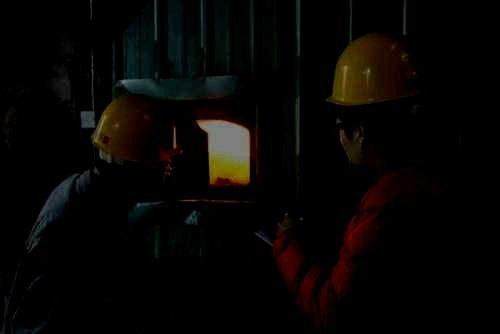helmet: (324, 32, 426, 168), (89, 93, 164, 186)
